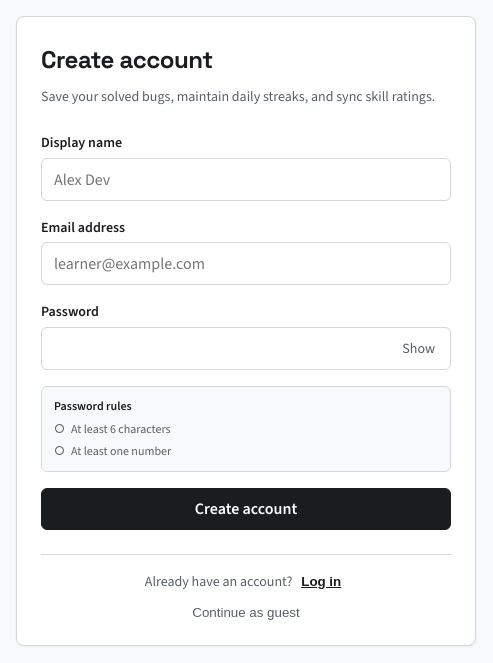
Test case: Bug Hunt Arena: Visual Identity & Landing/Auth Flows › SignupRoute › shows live checklist updating for password requirements
Check: the text "○" next to "At least one number" is shown, box [54,443,65,459]
# Type 6 letters with no number
Type "abcdef" into the password field labelled "Password".
click(246, 348); type("abcdef")  # box [41,327,451,370]
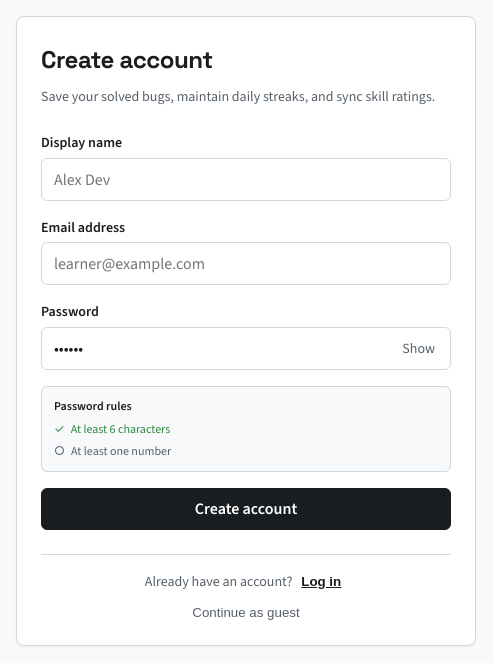
Check: the text "○" is shown, box [54,442,65,461]
Check: the text "✓" is shown, box [54,420,65,438]
# Add a number
Type "abcdef1" into the password field labelled "Password".
click(246, 348); type("abcdef1")  # box [41,327,451,370]
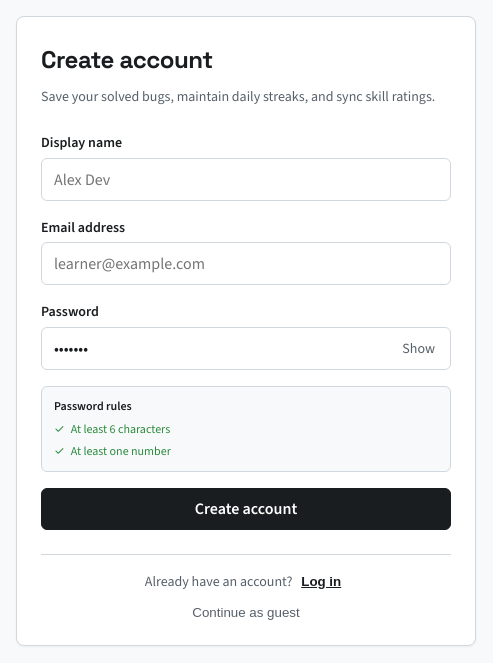
Check: the text "✓" next to "At least one number" is shown, box [54,443,65,459]
